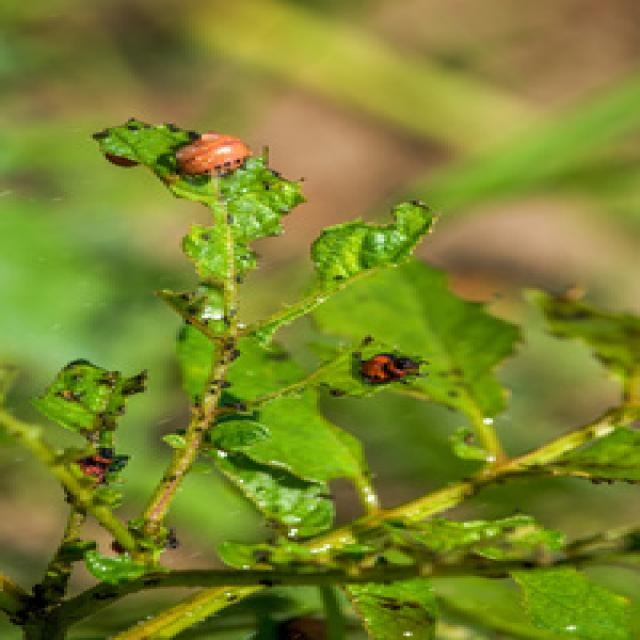ShuCaiHuaBanChong-Larva-: (177, 115, 250, 187)
